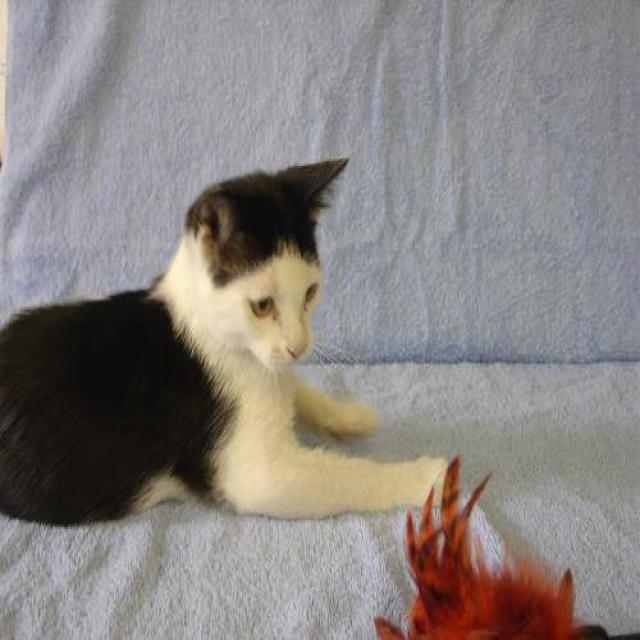cat: (0, 154, 452, 527)
